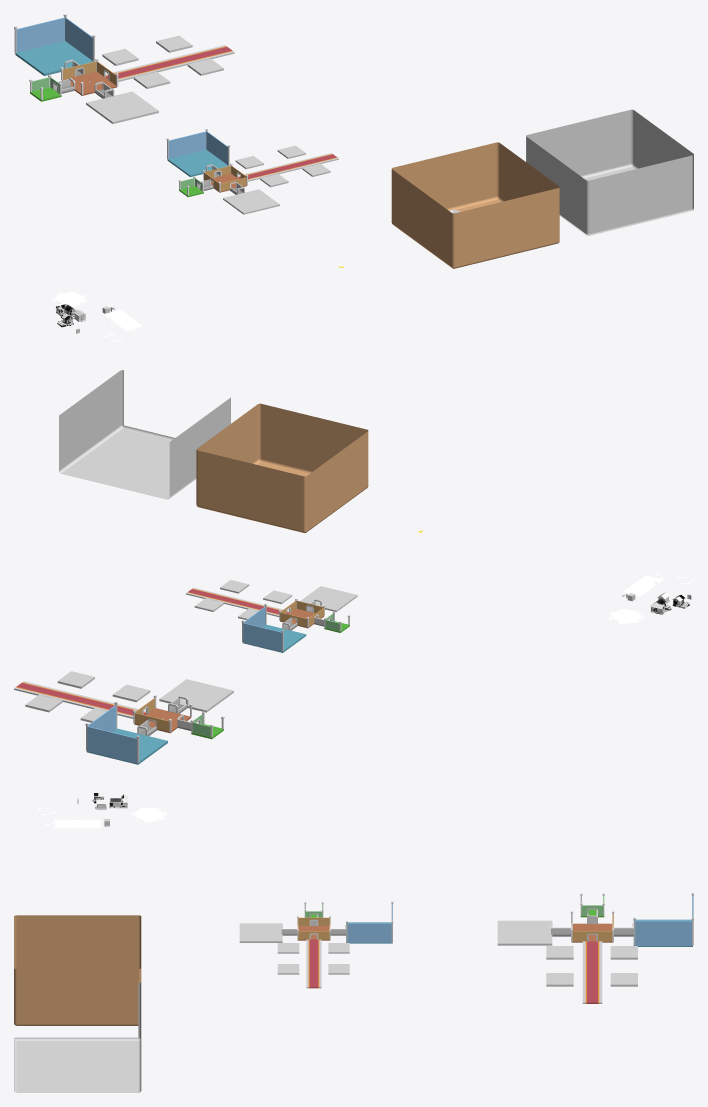
Rendered from Mesh_Vizion.glb.
3 views of the same model, one above another, from view 1: azimuth 30°, elevation 25°; view 2: azimuth 150°, elevation 25°; view 3: azimuth 270°, elevation 25° (orthographic). The views are drawn at different scales.
Visible parts, largest first — view 1: Wall_Invis, Wall_Invis.001, Plane, Plane.001, Cube.044, Cube.043, Cube.046, Cube.071, Cube.002, Cube.001, Cube.004, Cube.033 (+3 smaller); view 2: Plane, Plane.001, Wall_Invis, Wall_Invis.001, Cube.043, Cube.071, Cube.046, Cube.001, Cube.033, Cube.004, Cube.044; view 3: Plane, Plane.001, Wall_Invis, Cube.072, Cube.043, Cube.046, Cube.034, Cube.001, Cube.004, Cube, Cube.087.
Part boxes in pixels (x1,y1,x2,y2): Wall_Invis: (392,169,558,267); Wall_Invis.001: (526,136,692,234); Plane: (391,142,559,268); Plane.001: (526,109,693,235); Cube.044: (15,41,93,75); Cube.043: (86,91,158,123); Cube.046: (105,45,234,81); Cube.071: (16,17,64,52); Cube.002: (167,150,228,177); Cube.001: (223,189,279,214); Cube.004: (238,153,338,181); Cube.033: (168,131,206,158); Plane: (196,403,368,532); Plane.001: (59,370,196,499); Wall_Invis: (261,404,368,530); Wall_Invis.001: (169,397,230,496); Cube.043: (159,679,233,712); Cube.071: (87,726,137,763); Cube.046: (14,681,146,718); Cube.001: (300,586,357,612); Cube.033: (243,623,281,651); Cube.004: (186,587,288,616); Cube.044: (86,728,167,764); Plane: (14,915,141,1025); Plane.001: (14,982,141,1092); Wall_Invis: (14,915,138,968); Cube.072: (635,920,692,945); Cube.043: (497,920,552,945); Cube.046: (582,941,602,1003); Cube.034: (347,923,391,943); Cube.001: (239,923,282,942); Cube.004: (306,939,321,988); Cube: (297,915,330,940); Cube.087: (54,819,100,828).
Bounding box in the file's own units: 882 × 83.45 × 855.
Materials: 18 (1 with a texture image).
